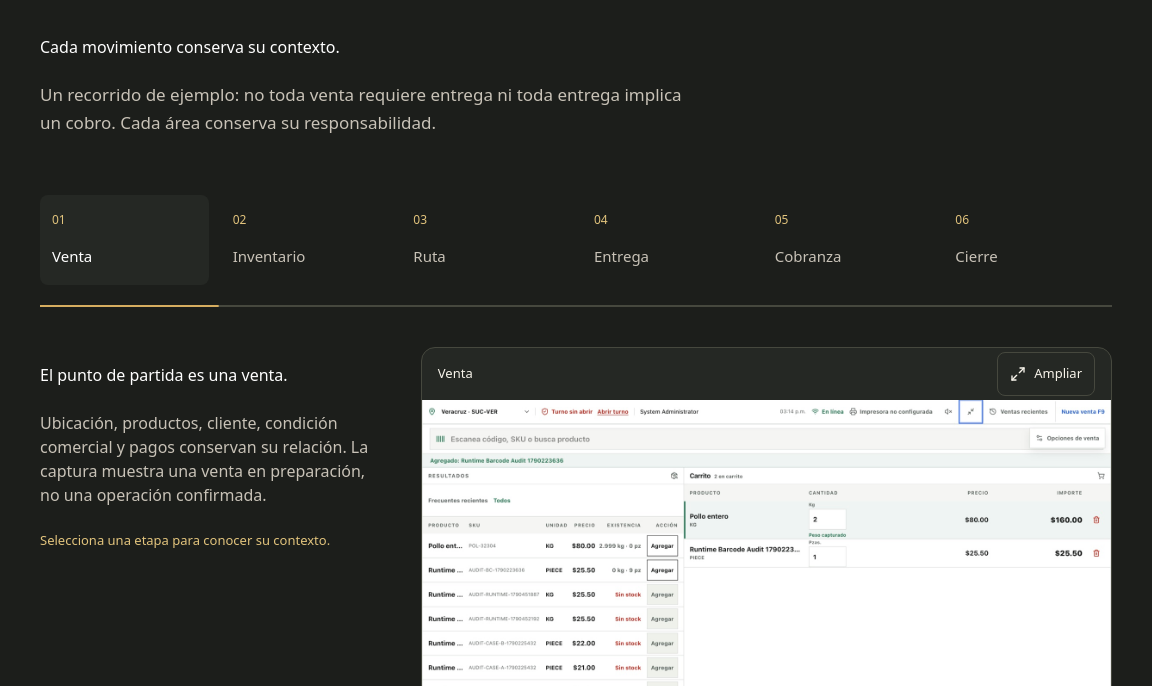
Test case: Visible Operations P0 › shows the real location-balance capture in the inventory stage
Click the button "02 Inventario" at (305,240), box [221,195,389,285]
(page scrolled)
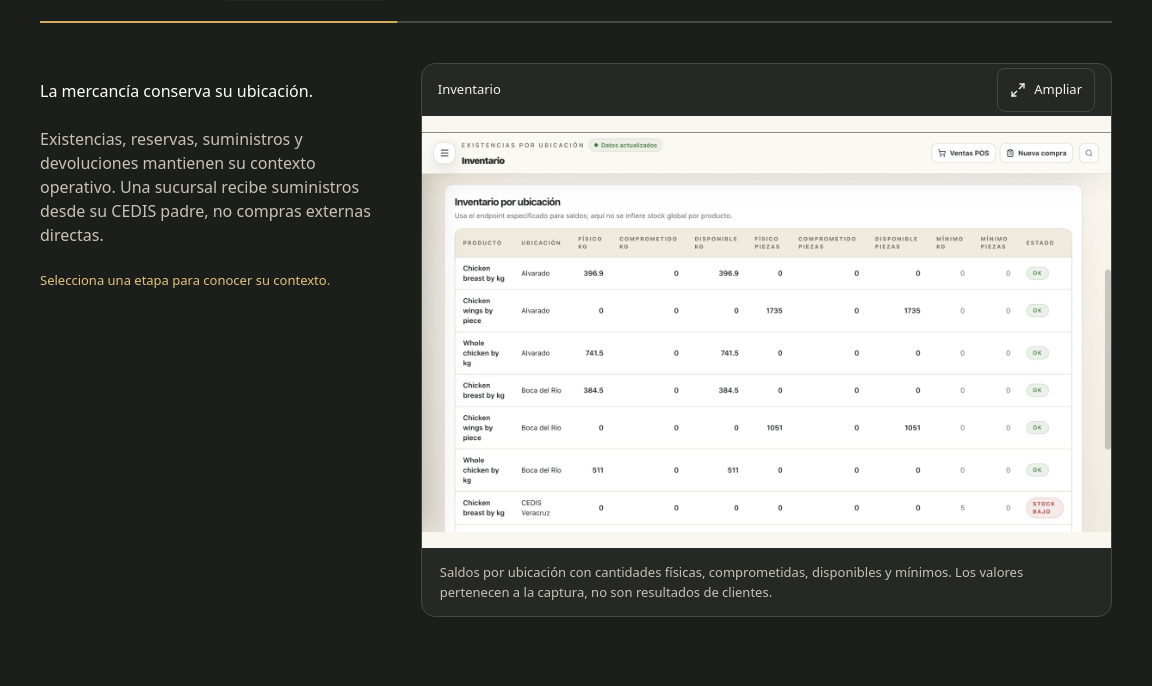
Result: the text "cantidades físicas" is shown at [440,563,1023,601]
